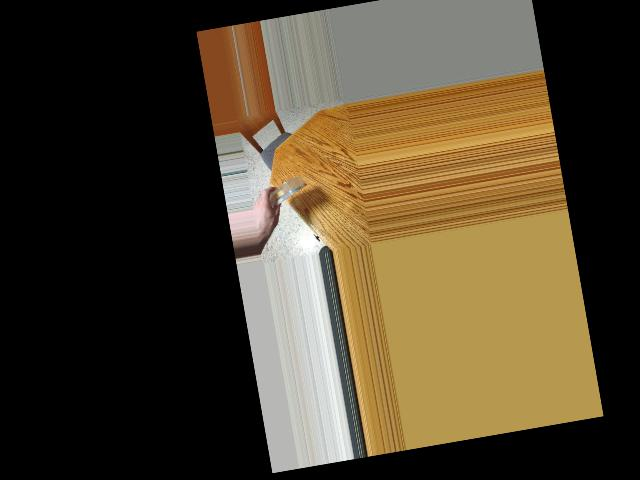cheese: (261, 174, 311, 207)
